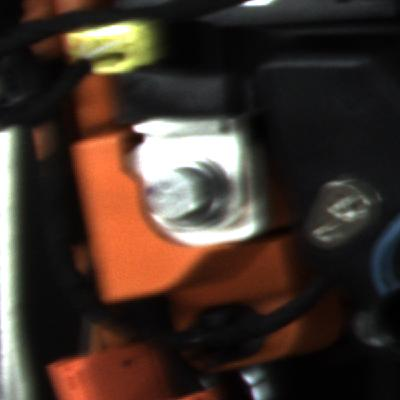nut_b: (138, 157, 237, 240)
